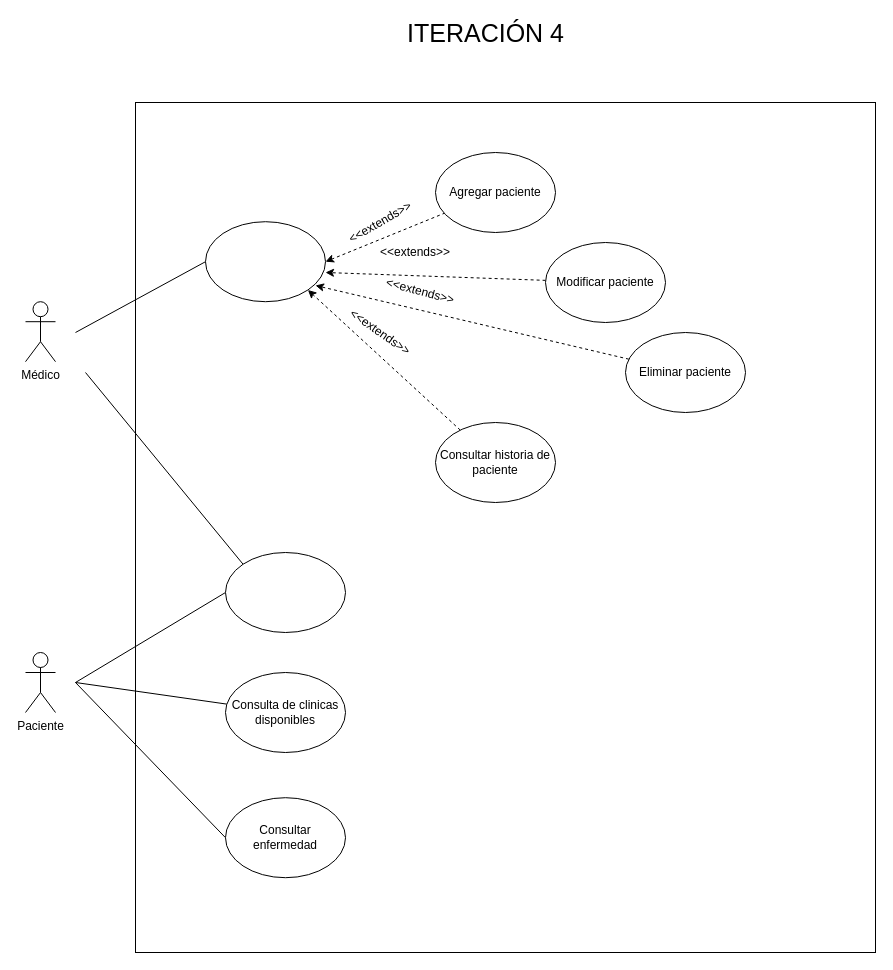
This 893x970 diagram has some shape labels left out. The shapes that lost their labels are listed below. From the top down, each one's centre as x and y in pixels, then its label:
the point at 265,261: Gestión de pacientes
the point at 285,592: Envío de mensajes directos
